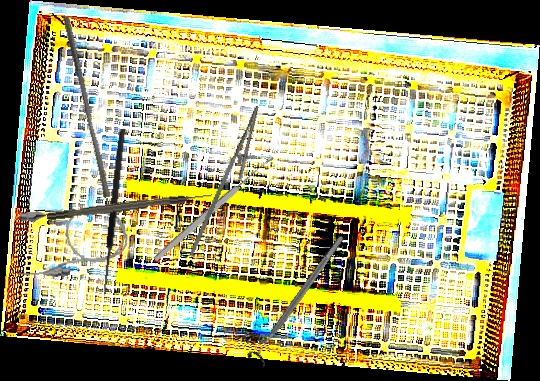Cannula: (10, 202, 132, 281)
Fixation Ring: (245, 230, 352, 369)
Hook Surgical: (100, 128, 134, 298), (46, 191, 213, 221)
Needle Holder: (188, 99, 272, 266)
Pusher: (55, 15, 118, 199)
Surgical Spoon: (152, 153, 276, 264)
